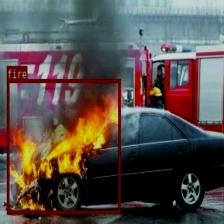fire: (7, 78, 120, 214)
